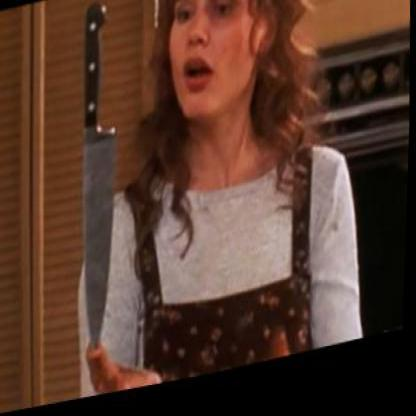knife: (62, 0, 127, 361)
